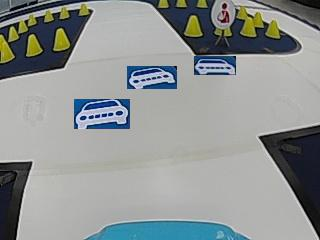cone: (184, 15, 203, 37), (53, 28, 70, 51), (0, 35, 14, 62), (26, 34, 42, 55), (241, 16, 256, 36), (266, 19, 280, 38), (8, 25, 19, 40), (77, 3, 89, 16), (59, 6, 70, 19), (43, 10, 54, 22), (27, 13, 37, 25), (18, 20, 27, 32), (157, 0, 169, 8), (196, 0, 208, 8), (175, 0, 187, 8)
patient: (212, 0, 234, 27)
